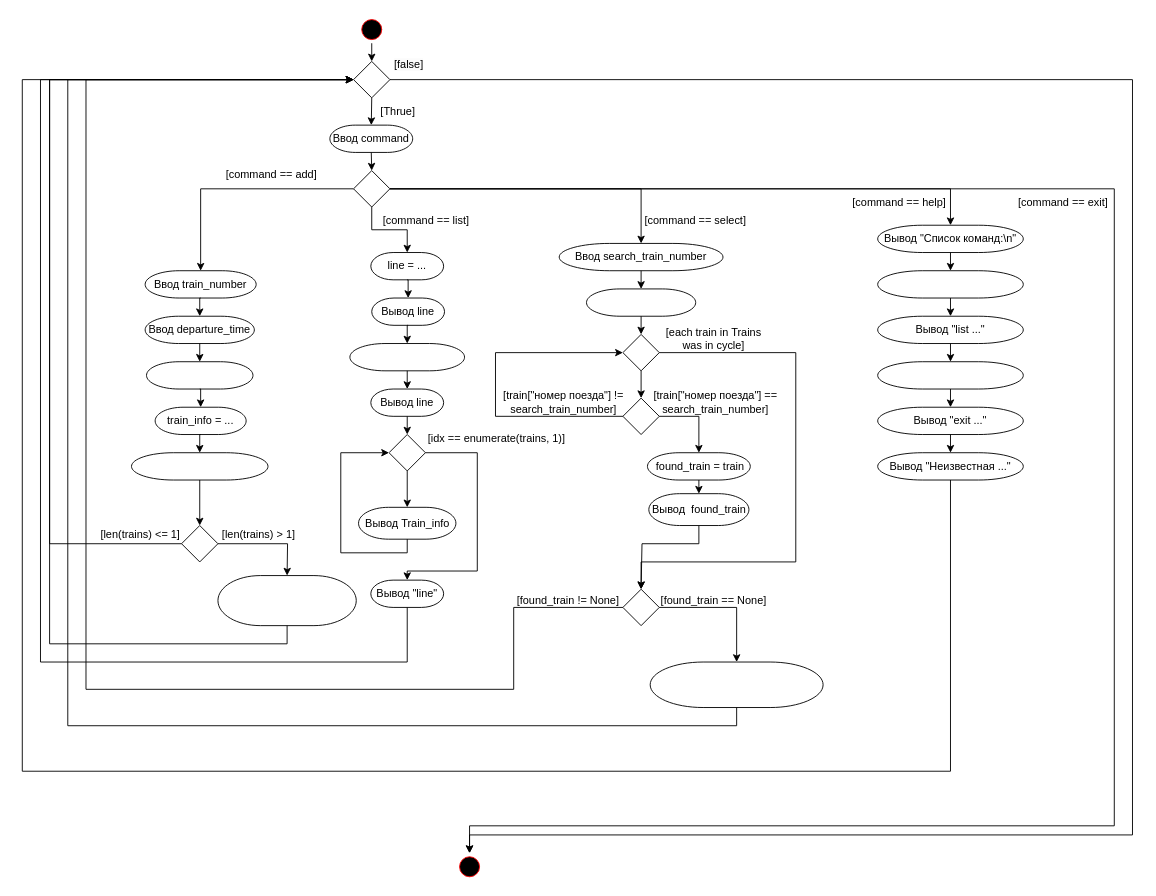
Image size: 1156x896. Some labels were removed from this diagram. The box of each missing label's shape, as (x1, y1, x2, y2) in pixels:
found_train = None: (586, 288, 696, 316)
trains.append(train_info): (131, 452, 268, 480)
trains.sort(key=lambda x: x['номер поезда']): (217, 575, 356, 626)
Ввод destination: (146, 361, 253, 389)
Вывод "( '| {:^4} ...": (349, 343, 465, 371)
Вывод "add ...": (877, 270, 1023, 298)
Вывод "select ...": (877, 361, 1023, 389)
Вывод "Поезда с номером {search_train_number} не найдено.": (649, 661, 823, 708)
